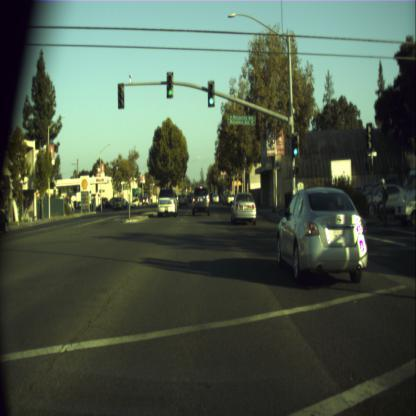Green: (291, 133, 299, 157), (207, 80, 214, 107), (166, 72, 173, 98)
off: (118, 83, 124, 108)
